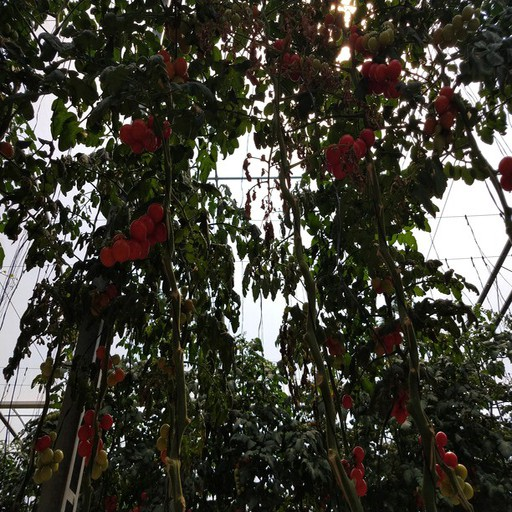green tomato bunch: (77, 409, 113, 481), (426, 6, 479, 38), (154, 423, 185, 468)
mixed tomato bunch: (417, 431, 472, 501), (77, 409, 113, 481), (31, 432, 66, 486), (351, 19, 397, 49)
red tomato bunch: (101, 206, 168, 264), (327, 126, 373, 177), (273, 41, 316, 83), (426, 85, 461, 136), (120, 116, 171, 149), (359, 58, 402, 95), (155, 49, 192, 87), (341, 447, 367, 498), (93, 345, 124, 384), (388, 385, 413, 423), (374, 328, 403, 354)
